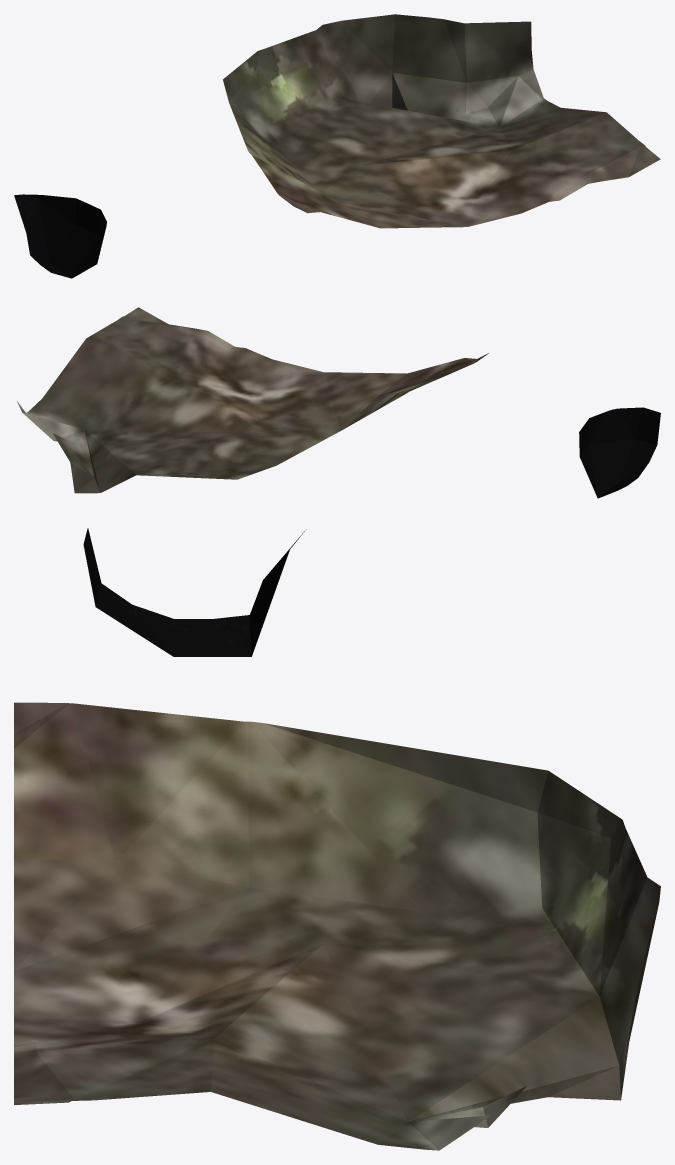
The picture shows the model from 3 angles, top to bottom: view 1: azimuth 30°, elevation 25°; view 2: azimuth 150°, elevation 25°; view 3: azimuth 270°, elevation 25°; orthographic projection. The views are drawn at different scales.
Bounding box in the file's own units: 2.95 × 0.446 × 1.61.
Materials: 1 (1 with a texture image).
